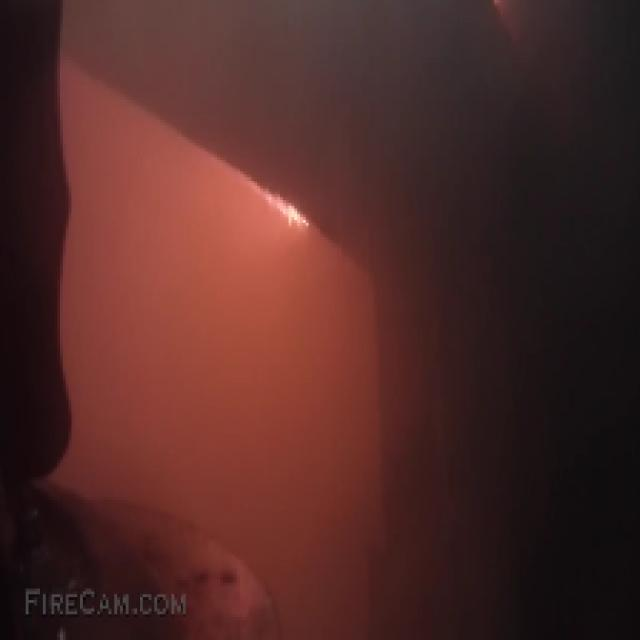Fire: (208, 146, 314, 234)
Smoke: (34, 3, 637, 640)
